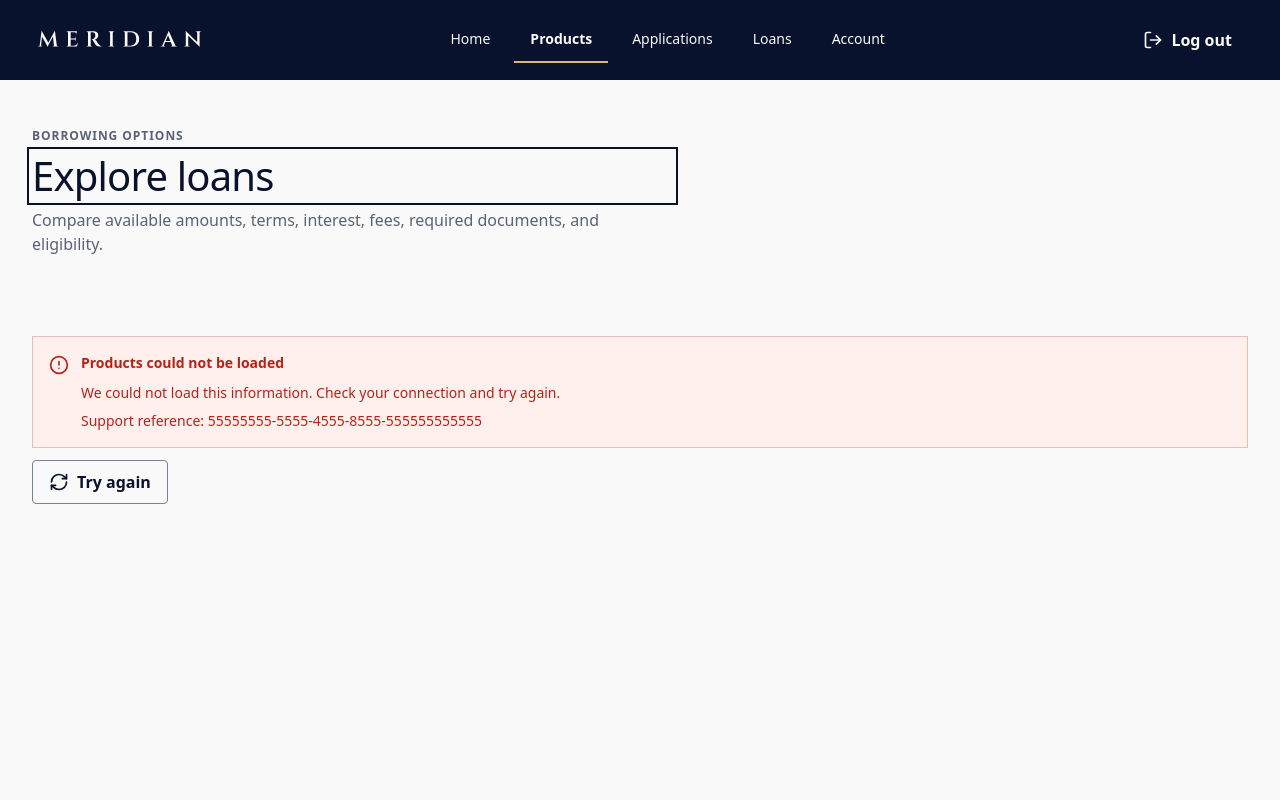
Scenario: FE-CP5 product catalogue and details › keeps page context, support reference, and a working retry when the product query fails
Expected: the heading "Explore loans" is shown, [32,148,274,203]
Expected: the heading "Products could not be loaded" is shown, [81,353,284,372]
Click the button "Try again" at (100, 482), box [32,460,168,504]
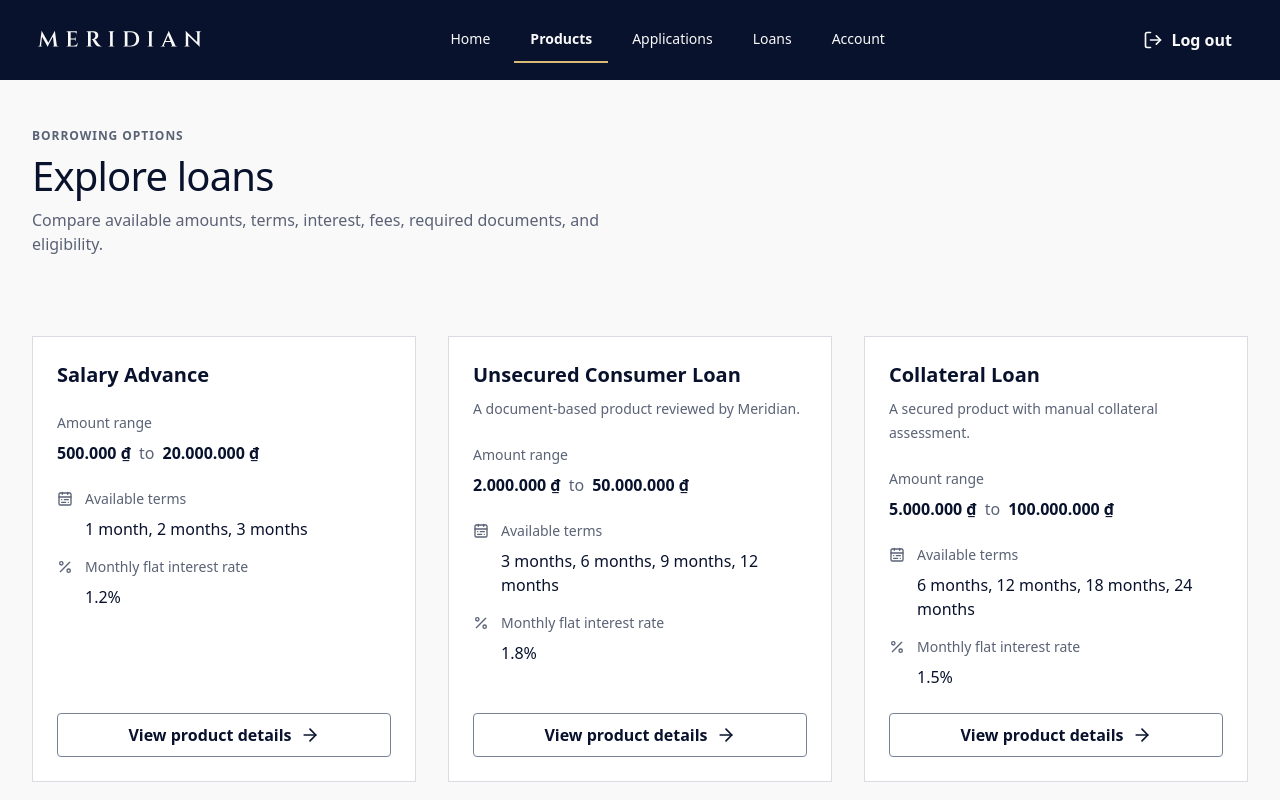
Expected: the heading "Salary Advance" is shown, [57,361,209,388]
